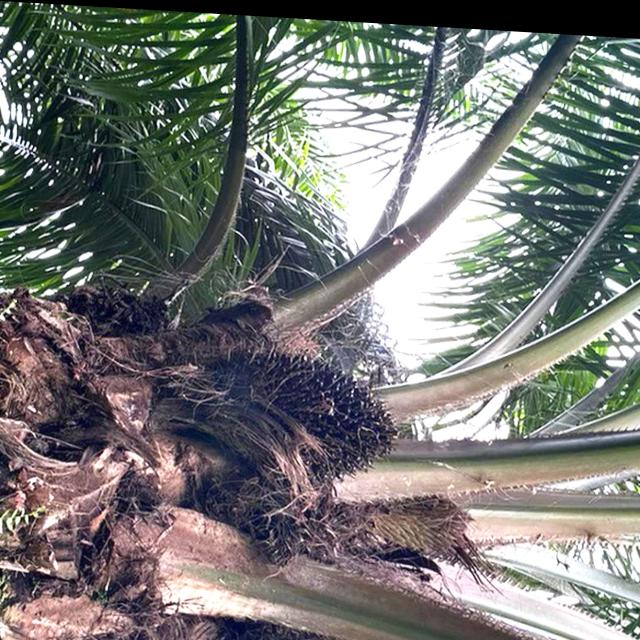unripe: (222, 332, 400, 484)
